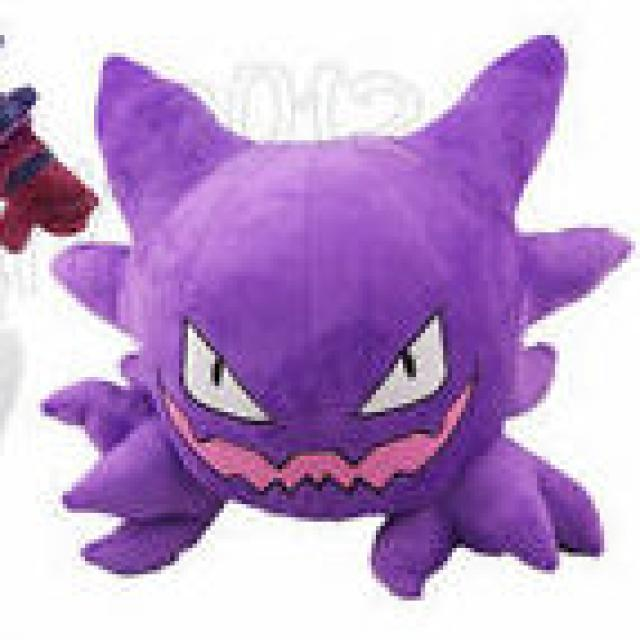Haunter: (71, 34, 640, 602)
